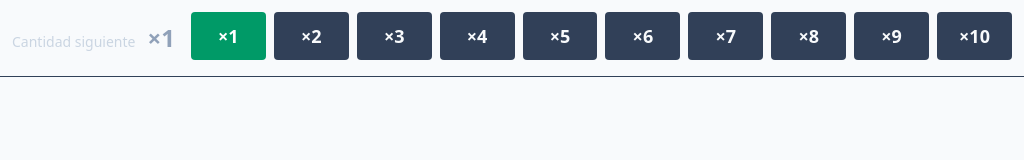
Test: QuantityPad › uses one compact row of consecutive multipliers
This screenshot has width=1024, height=160.
Expected: the text named "Cantidad para el siguiente producto" reads "×1", [147,22,175,54]
Click the button "×4" at {"x": 477, "y": 36}, box [440,12,514,60]
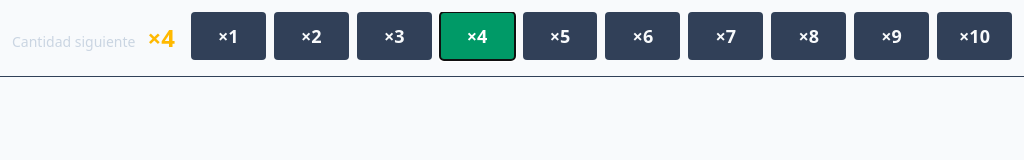
Now the text named "Cantidad para el siguiente producto" reads "×4", box [147,22,175,54]
Click the button "×10" at {"x": 975, "y": 36}, box [937,12,1012,60]
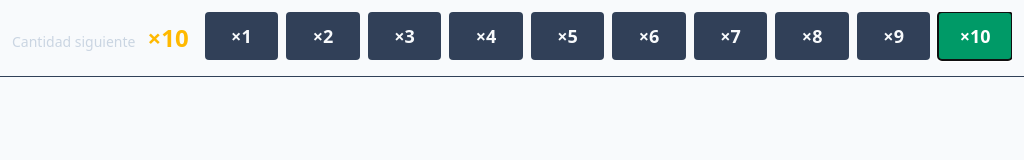
Now the text named "Cantidad para el siguiente producto" reads "×10", box [147,22,189,54]
Click the button "×1" at {"x": 241, "y": 36}, box [205,12,278,60]
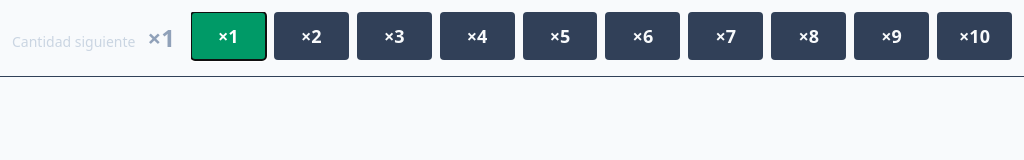
Now the text named "Cantidad para el siguiente producto" reads "×1", box [147,22,175,54]
